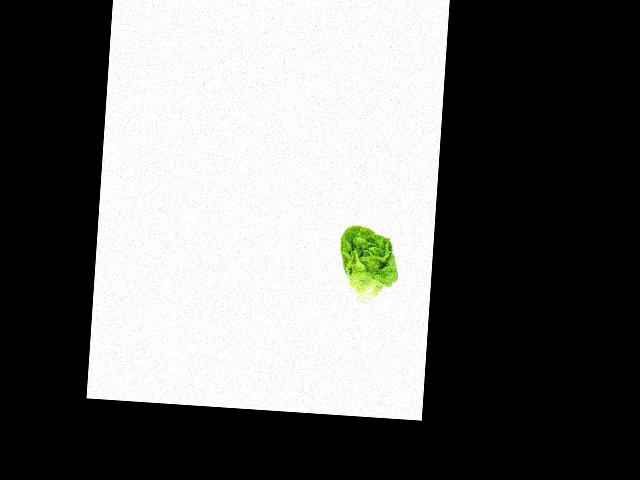lettuce: (334, 224, 405, 308)
